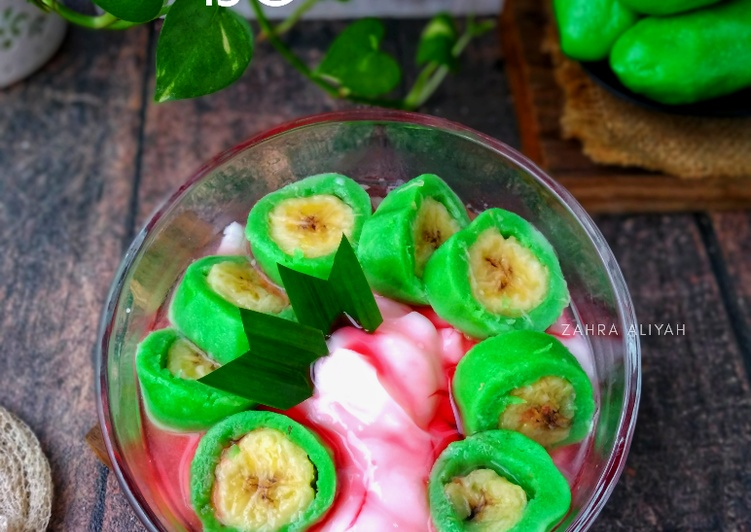pisang_ijo: (164, 412, 336, 526), (447, 213, 572, 347)
